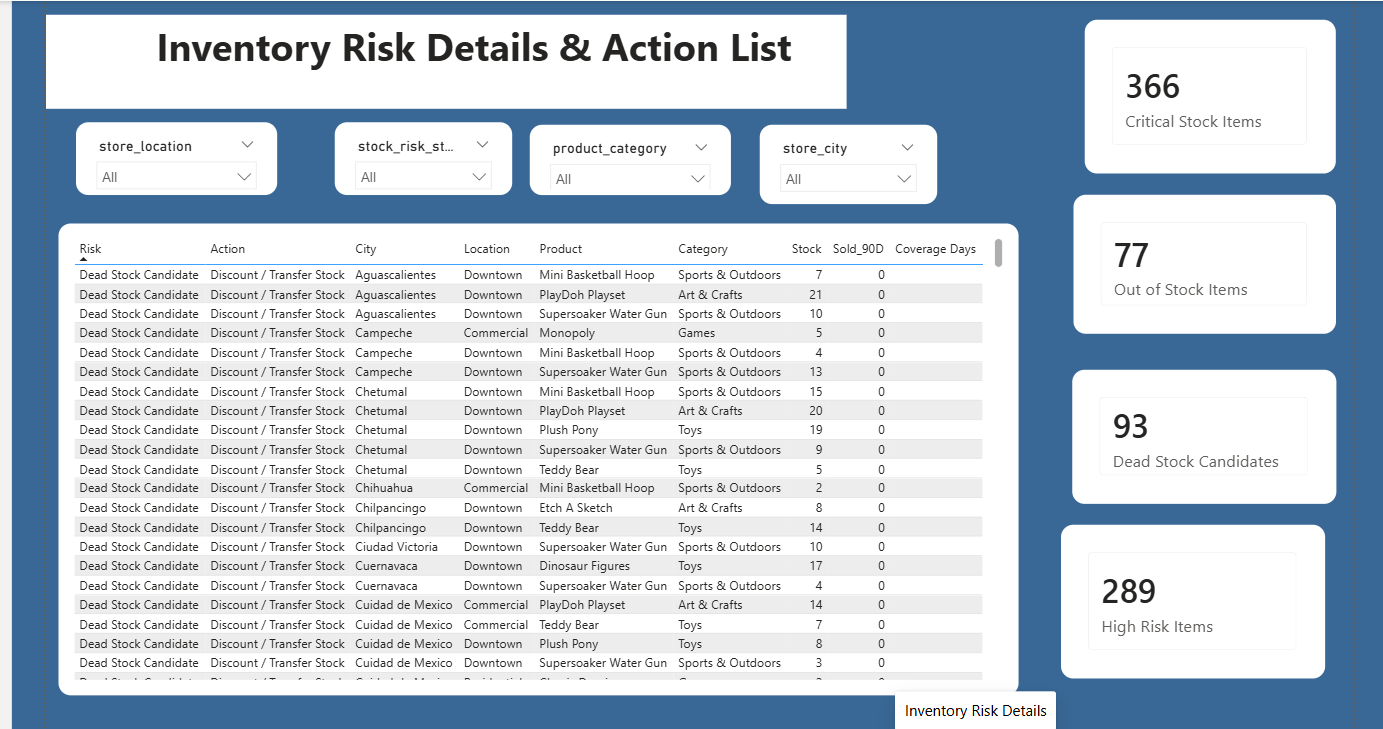

The page's visual inventory and layout, read from the dashboard file:
{"tool":"powerbi","page":{"name":"Inventory Risk Details","canvas":[1280,720],"ordinal":4},"visuals":[{"type":"textbox","box":[0,13.3,783.3,91.7],"z":0},{"type":"slicer","fields":{"Values":["vw_stock_risk.product_category"]},"box":[0,76.7,196.7,68.3],"z":1000},{"type":"slicer","fields":{"Values":["vw_stock_risk.store_location"]},"box":[470,75,196.7,70],"z":2000},{"type":"slicer","fields":{"Values":["vw_stock_risk.store_city"]},"box":[250,76.7,173.3,68.3],"z":3000},{"type":"slicer","fields":{"Values":["vw_stock_risk.stock_risk_status"]},"box":[748.3,75,173.3,70],"z":4000},{"type":"cardVisual","fields":{"Data":["vw_stock_risk.Critical Stock Items"]},"box":[24.7,143.3,198.3,150],"z":5000},{"type":"cardVisual","fields":{"Data":["vw_stock_risk.Dead Stock Candidates"]},"box":[433.3,144,233.3,150],"z":6000},{"type":"cardVisual","fields":{"Data":["vw_stock_risk.Out of Stock Items"]},"box":[223.3,144,196.7,150],"z":7000},{"type":"cardVisual","fields":{"Data":["vw_stock_risk.High Risk Items"]},"box":[681.7,144,173.3,150],"z":8000},{"type":"tableEx","fields":{"Values":["vw_stock_risk.stock_risk_status","vw_stock_risk.Recommended Action","vw_stock_risk.store_city","vw_stock_risk.store_location","vw_stock_risk.product_name","vw_stock_risk.product_category","Sum(vw_stock_risk.stock_on_hand)","Sum(vw_stock_risk.units_sold_90d)","Sum(vw_stock_risk.stock_coverage_days)"]},"box":[25,293.3,1206.7,371.7],"z":9000}]}

Visuals, with their boxes on the page's 1280x720 design canvas (x1, y1, x2, y2). These are canvas units, not pixel positions in the 1383x729 screenshot, which may show the page scaled, cropped or inside an application window:
textbox: bbox=[0, 13, 783, 105]
slicer - vw_stock_risk.product_category: bbox=[0, 77, 197, 145]
slicer - vw_stock_risk.store_location: bbox=[470, 75, 667, 145]
slicer - vw_stock_risk.store_city: bbox=[250, 77, 423, 145]
slicer - vw_stock_risk.stock_risk_status: bbox=[748, 75, 922, 145]
cardVisual - vw_stock_risk.Critical Stock Items: bbox=[25, 143, 223, 293]
cardVisual - vw_stock_risk.Dead Stock Candidates: bbox=[433, 144, 667, 294]
cardVisual - vw_stock_risk.Out of Stock Items: bbox=[223, 144, 420, 294]
cardVisual - vw_stock_risk.High Risk Items: bbox=[682, 144, 855, 294]
tableEx - vw_stock_risk.stock_risk_status x vw_stock_risk.Recommended Action: bbox=[25, 293, 1232, 665]
